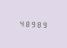eight: (24, 19, 29, 27), (36, 20, 41, 28)
four: (18, 19, 23, 27)
nine: (30, 19, 35, 28), (42, 20, 47, 28)
